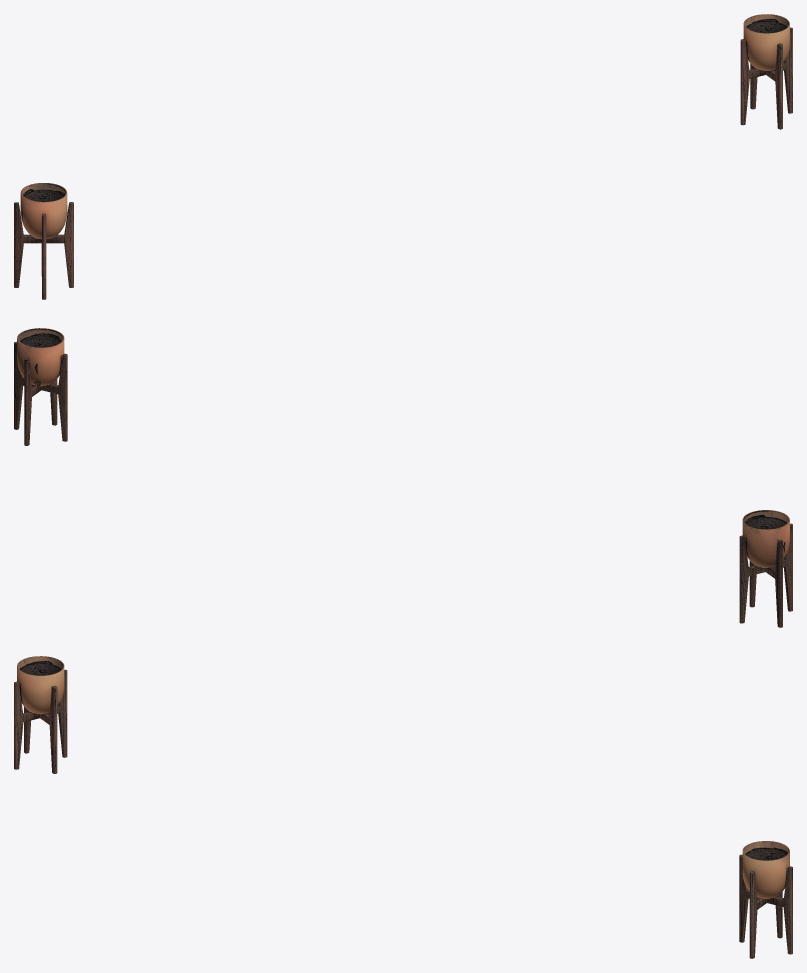
Rendered from plantstands.glb.
3 renders of one model, top to bottom at view 1: azimuth 30°, elevation 25°; view 2: azimuth 150°, elevation 25°; view 3: azimuth 330°, elevation 25°, orthographic. The views are drawn at different scales.
Parts seen in each view (by area): view 1: plant.stand_R, pant.stand_L; view 2: pant.stand_L, plant.stand_R; view 3: plant.stand_R, pant.stand_L.
Part boxes in pixels (x1,y1,x2,y2): plant.stand_R: (740,14,792,129); pant.stand_L: (14,183,73,299); pant.stand_L: (739,510,792,627); plant.stand_R: (14,328,67,445); plant.stand_R: (739,841,792,958); pant.stand_L: (14,656,67,773).
Bounding box in the file's own units: 6.35 × 0.7615 × 0.4961.
1 material, 1 textured.
